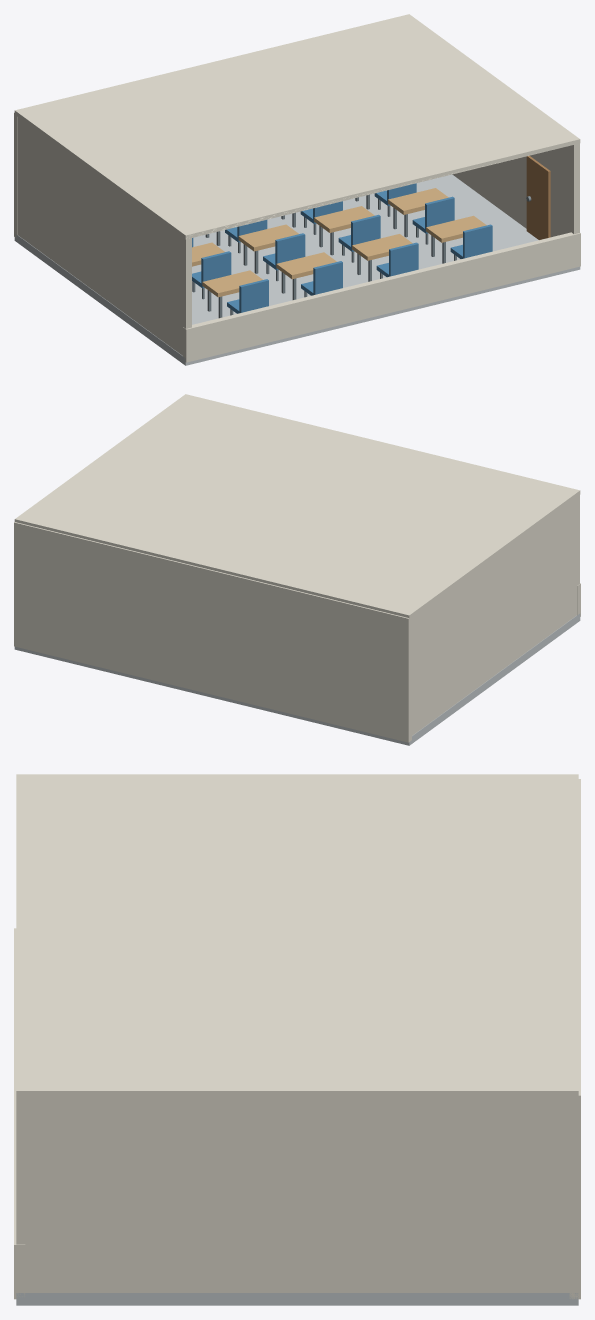
Rendered from classroom.glb.
3 renders of one model, top to bottom at view 1: azimuth 30°, elevation 25°; view 2: azimuth 150°, elevation 25°; view 3: azimuth 270°, elevation 25°, orthographic. The views are drawn at different scales.
Visible parts, largest first — view 1: Ceiling canopy, Left wall, Front low wall, Classroom floor, Right wall, Door panel, Student desk 2-2 top, Student desk 1-2 top, Student desk 1-1 top, Student desk 1-4 top, Student desk 2-3 top, Student desk 1-3 top (+10 smaller); view 2: Ceiling canopy, Back wall, Left wall, Classroom floor; view 3: Ceiling canopy, Right wall, Classroom floor, Back wall, Front low wall.
Boxes of the visible parts, <box> form: Ceiling canopy: <box>14,14,580,239</box>; Left wall: <box>17,117,191,355</box>; Front low wall: <box>183,232,580,362</box>; Classroom floor: <box>14,174,580,365</box>; Right wall: <box>452,143,579,237</box>; Door panel: <box>526,155,550,239</box>; Student desk 2-2 top: <box>238,224,298,251</box>; Student desk 1-2 top: <box>276,252,336,279</box>; Student desk 1-1 top: <box>202,270,262,297</box>; Student desk 1-4 top: <box>426,215,486,242</box>; Student desk 2-3 top: <box>314,206,374,232</box>; Student desk 1-3 top: <box>352,234,412,260</box>; Ceiling canopy: <box>14,394,580,617</box>; Back wall: <box>14,522,411,742</box>; Left wall: <box>412,495,579,735</box>; Classroom floor: <box>14,613,580,745</box>; Ceiling canopy: <box>16,774,578,1097</box>; Right wall: <box>16,1098,569,1292</box>; Classroom floor: <box>16,1293,578,1305</box>; Back wall: <box>569,779,580,1299</box>; Front low wall: <box>14,928,25,1299</box>.
Bounding box in the file's own units: 12 × 3.79 × 9.08.
